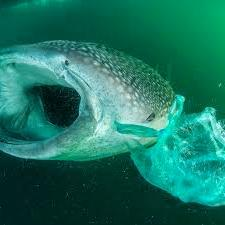Trash: (129, 90, 225, 210)
